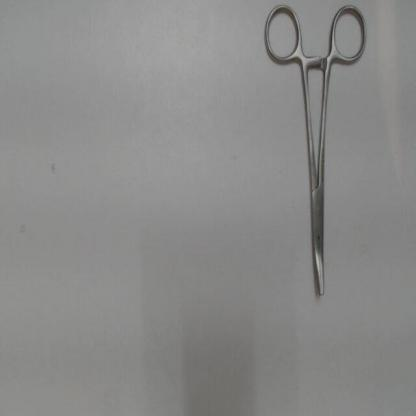Crile Artery Forceps: (260, 2, 371, 307)
